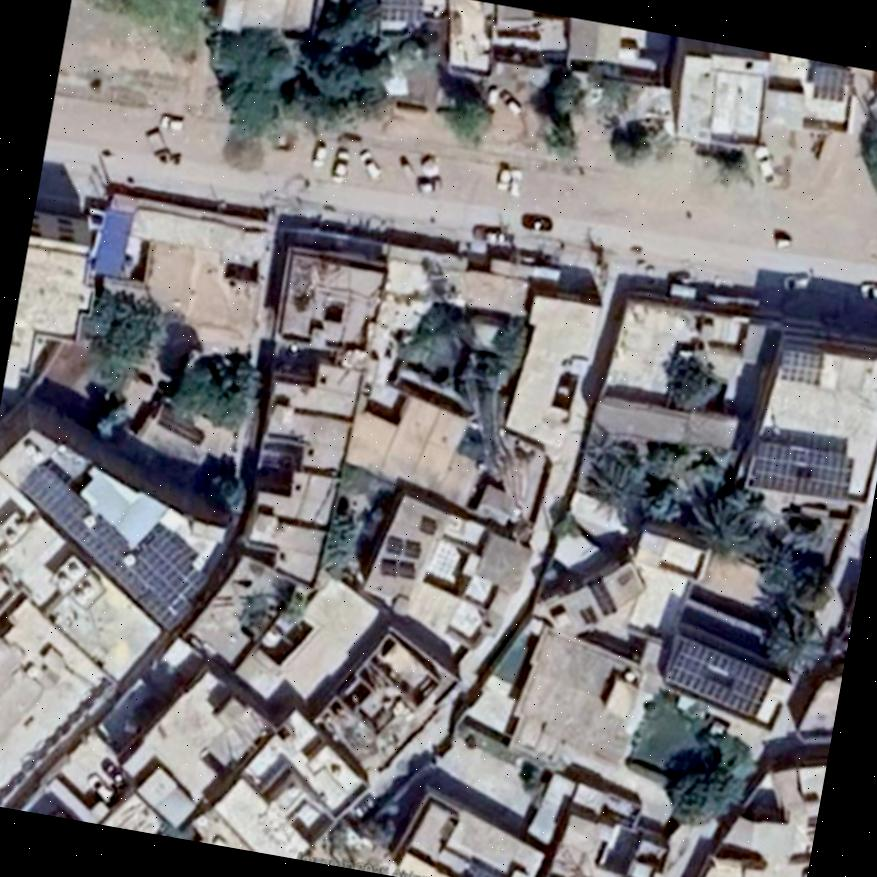Solarpanel: (18, 446, 208, 631), (669, 640, 774, 724), (751, 439, 851, 495), (782, 346, 822, 385), (817, 69, 850, 99), (381, 0, 424, 21), (466, 863, 501, 877)
